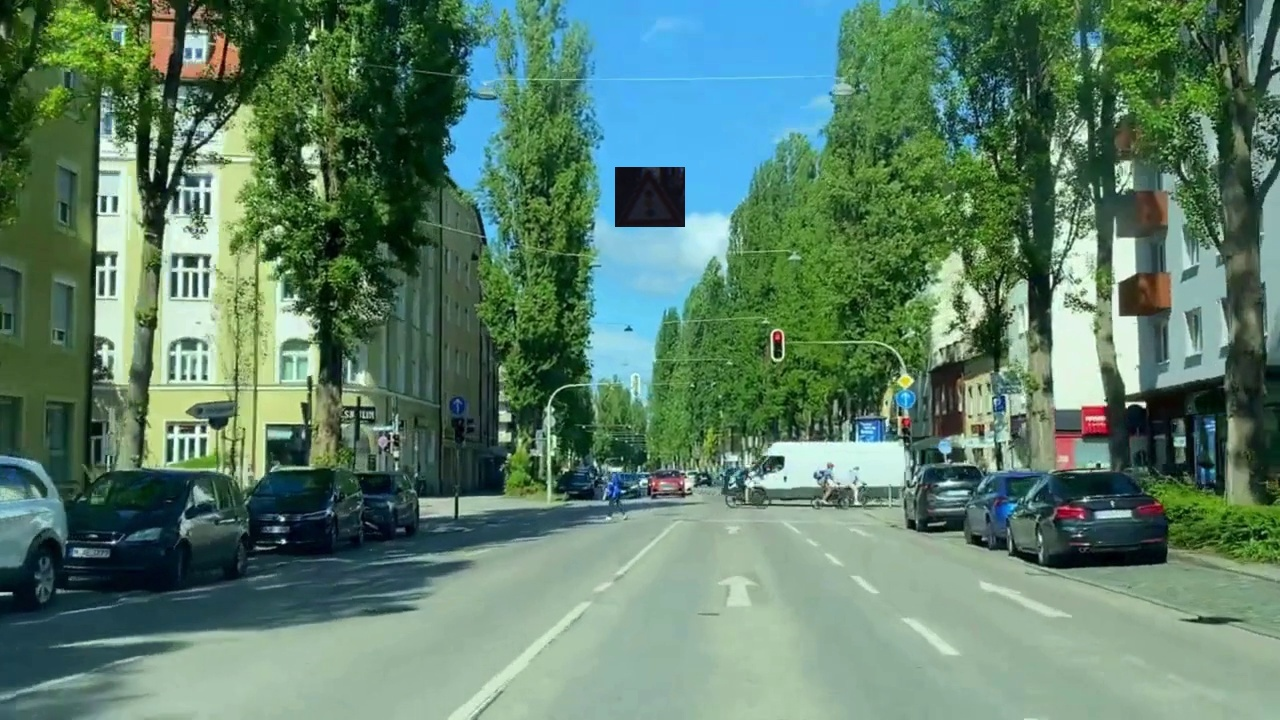Signals: (615, 167, 685, 227)
